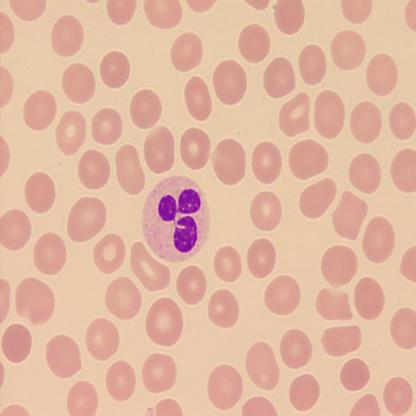Segmented neutrophil: (140, 174, 212, 264)
